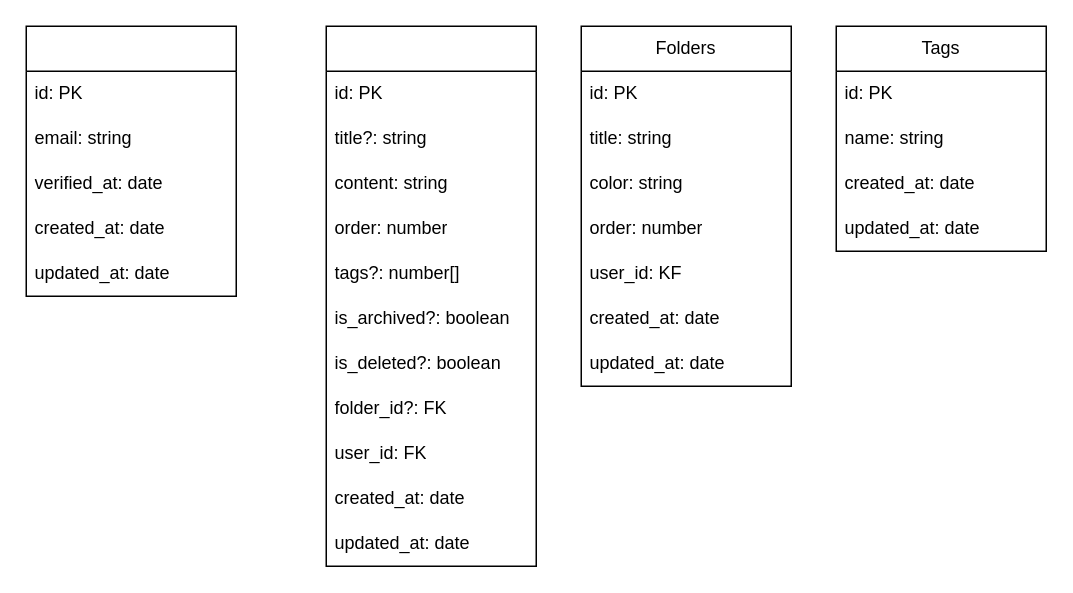
The diagram is 1073 pixels wide and 593 high, and some of its shapes have lost their labels. The box of each missing label's shape, as (x1, y1, x2, y2) in pixels:
Notes: (325, 25, 536, 566)
Users: (25, 25, 236, 296)
